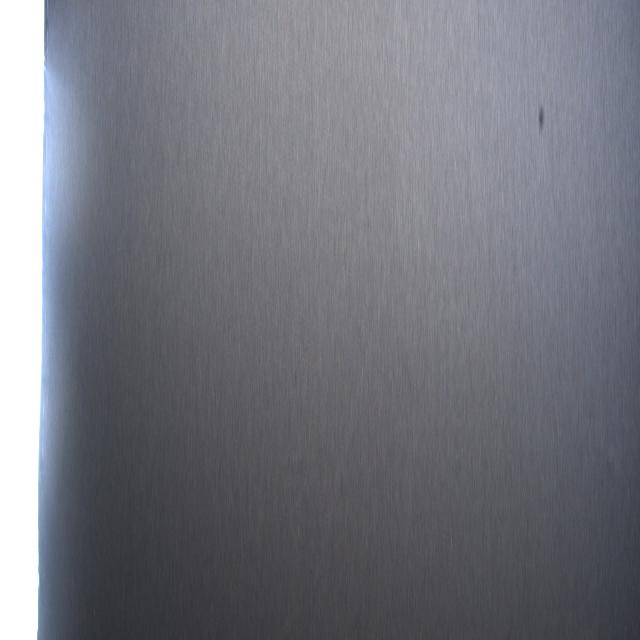crease: (308, 280, 388, 625)
